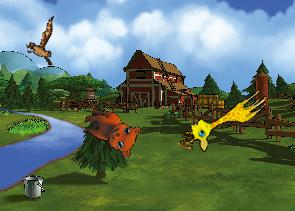bear: (77, 106, 143, 159)
eagle: (19, 16, 66, 71)
giraffe: (181, 78, 272, 155)
